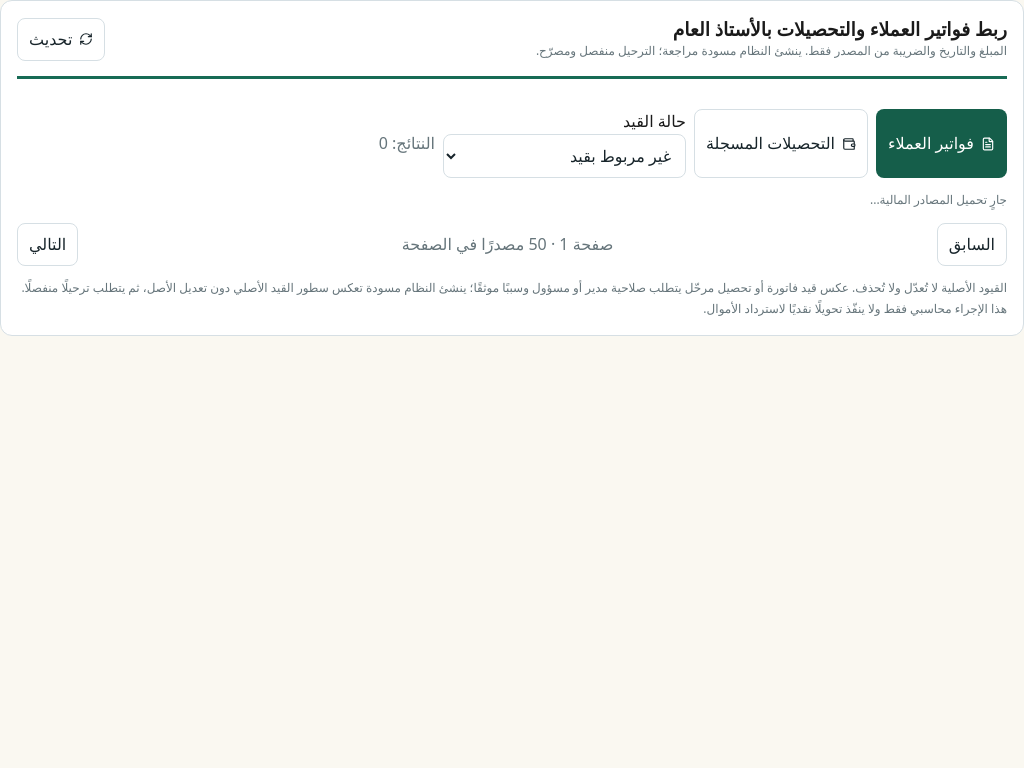
Test: invoice/payment journal source integration › creates a payment draft using only the source payment id and settlement account; AR is resolved by the server
This screenshot has width=1024, height=768.
Click the button "التحصيلات المسجلة" at point(781, 144), box [694, 109, 868, 178]
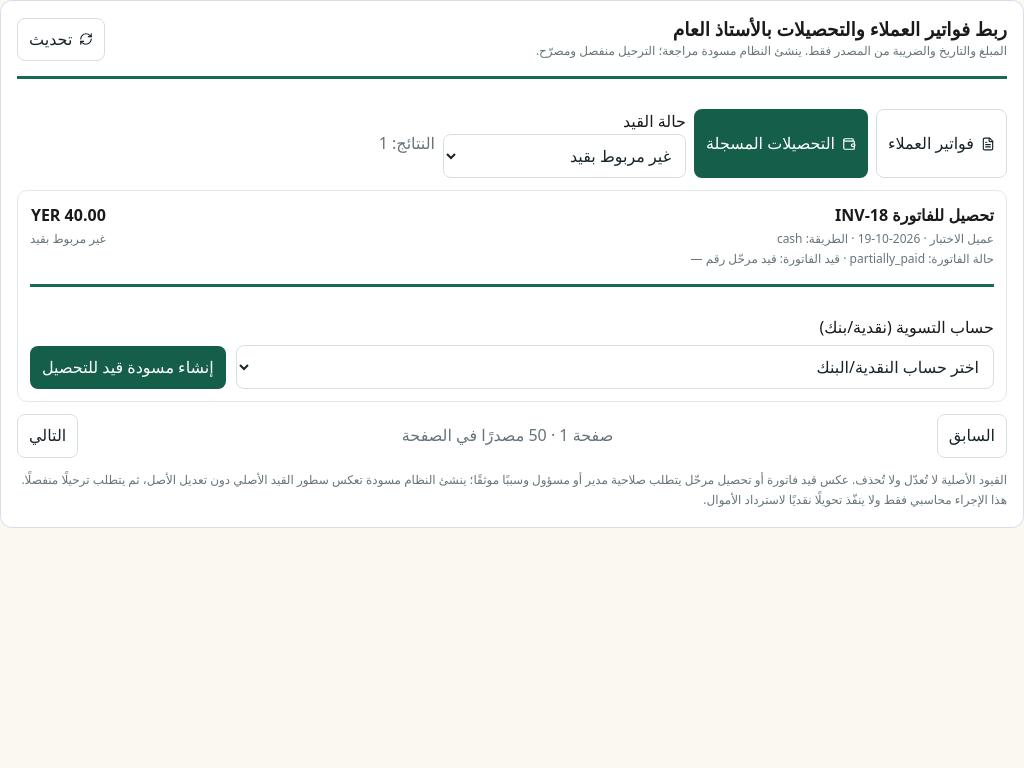
expect the text "تحصيل للفاتورة INV-18" is shown: met, box [835, 204, 994, 226]
Select "1000 — النقدية" in the dropdown named "حساب التسوية للتحصيل INV-18" at point(615, 367), box [236, 345, 994, 389]
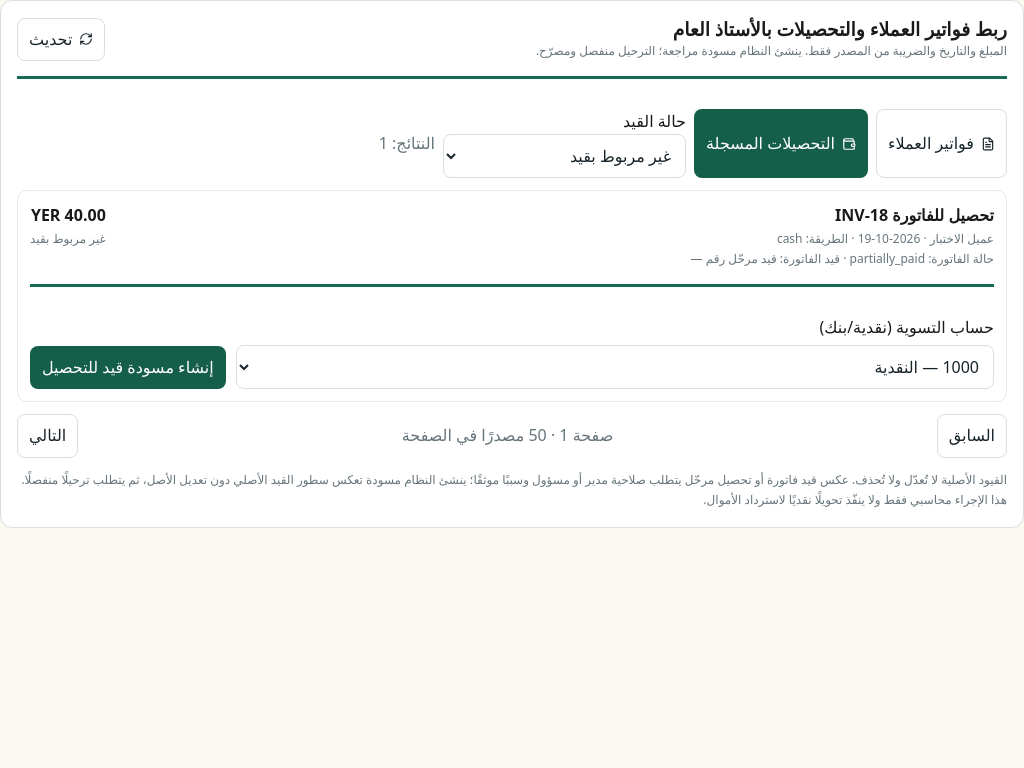
Click the button "إنشاء مسودة قيد للتحصيل" at point(128, 368), box [30, 346, 226, 389]
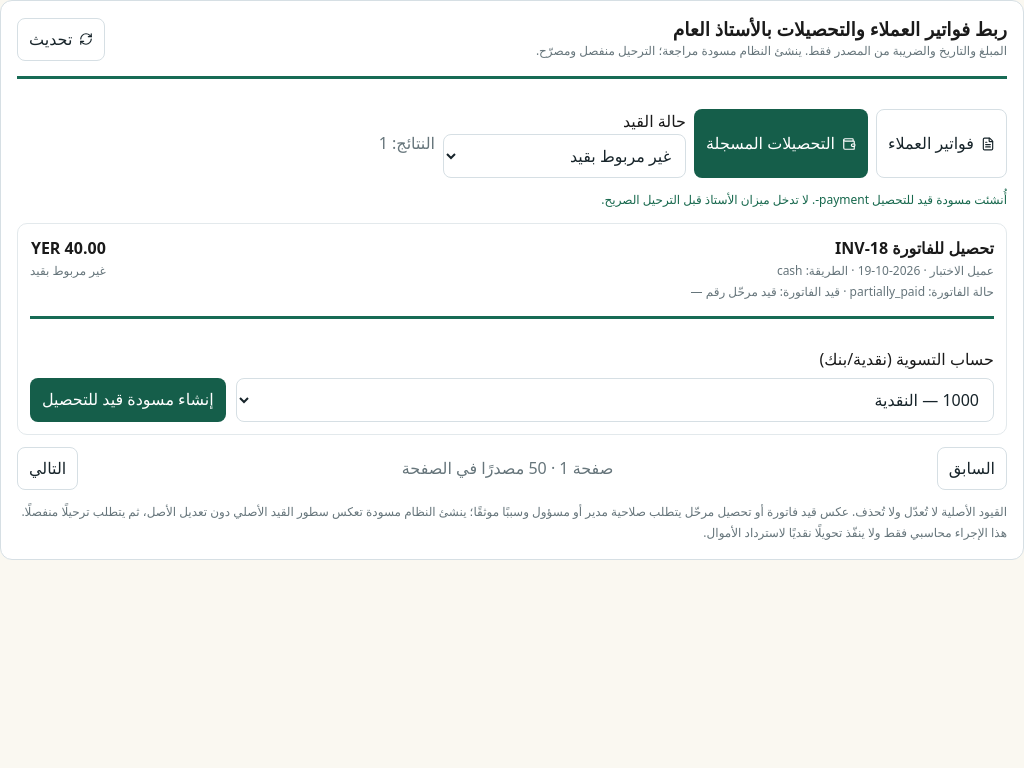
expect the text "أُنشئت مسودة قيد للتحصيل payment-. لا تدخل ميزان الأستاذ قبل الترحيل الصريح." is shown: met, box [601, 191, 1007, 208]
